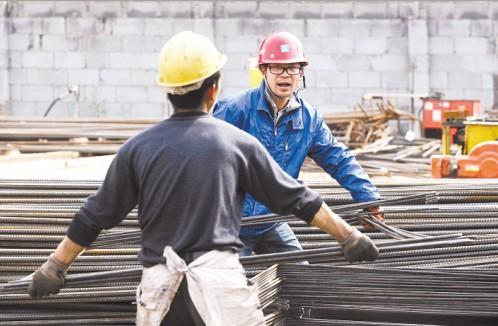helmet: (159, 31, 229, 88), (257, 32, 311, 69)
